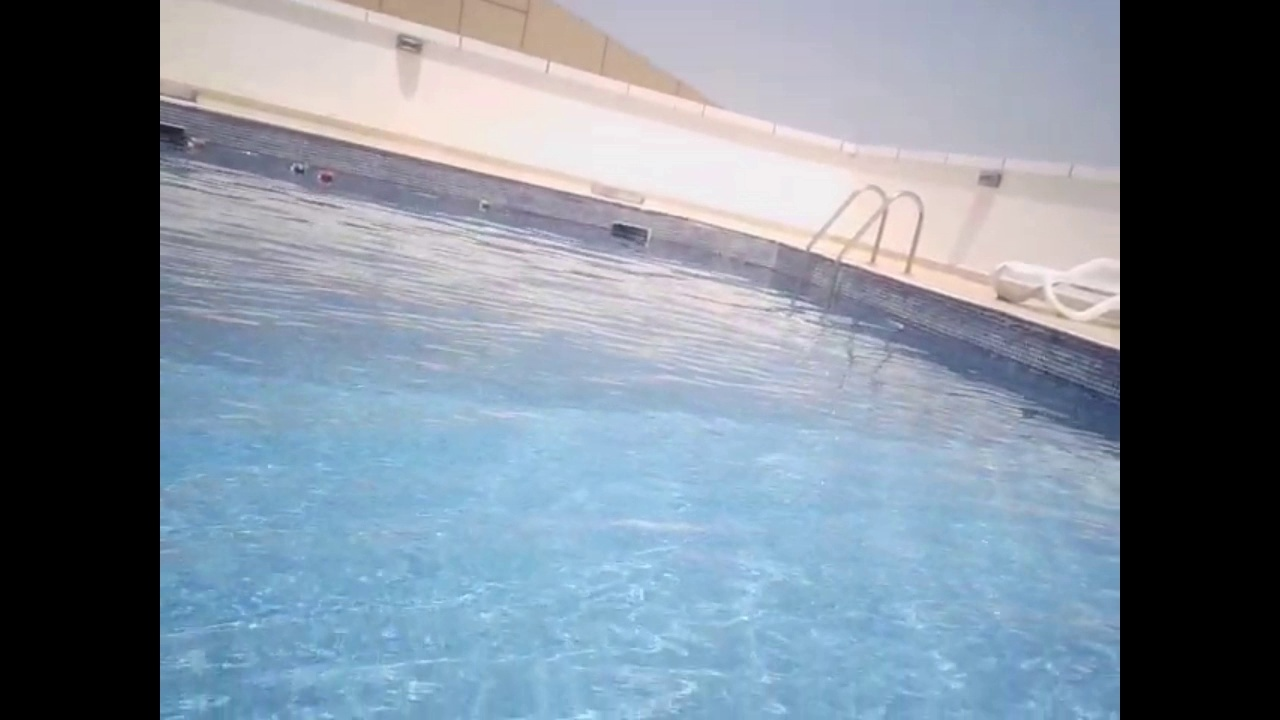debris: (186, 131, 209, 153), (313, 169, 340, 186), (286, 159, 309, 176), (474, 196, 494, 215)
